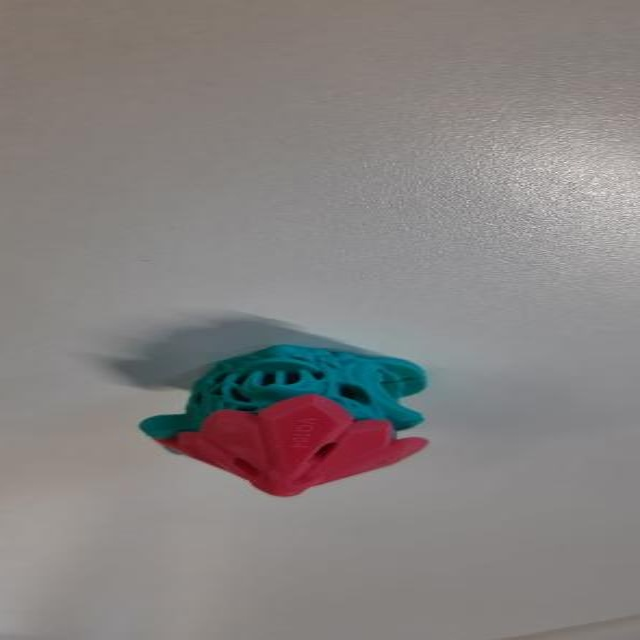House: (104, 296, 451, 516)
